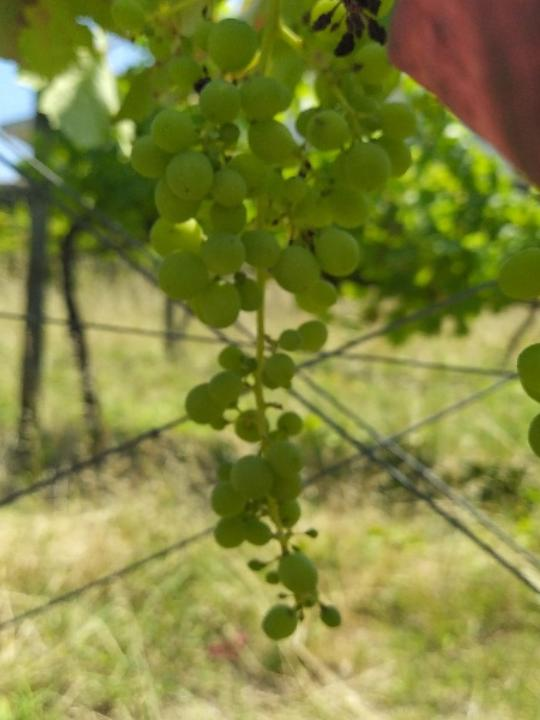grape: (103, 0, 429, 652), (247, 0, 441, 62)
